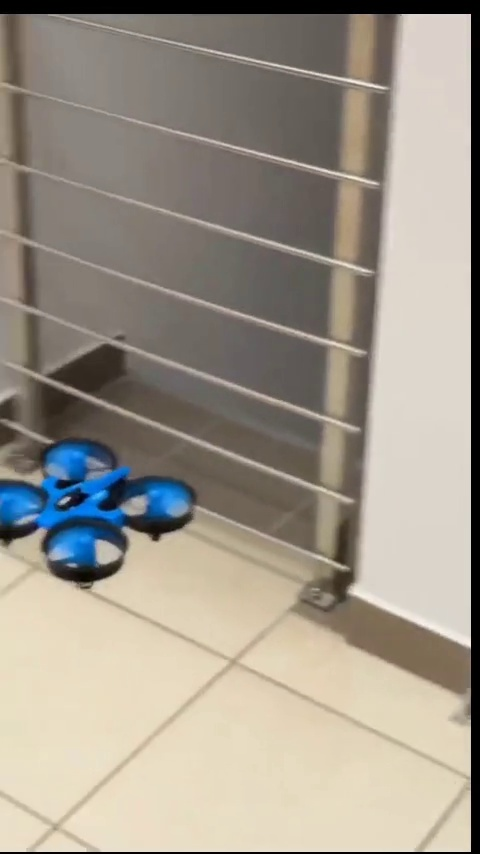drone: (0, 441, 193, 583)
